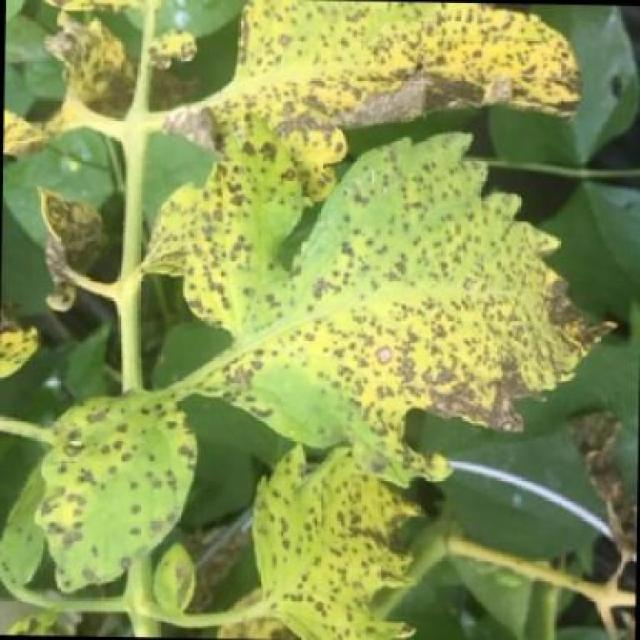Tomato leaf bacterial spot: (227, 123, 630, 487), (163, 1, 597, 149), (247, 431, 460, 640), (30, 367, 210, 604), (143, 124, 312, 347)
